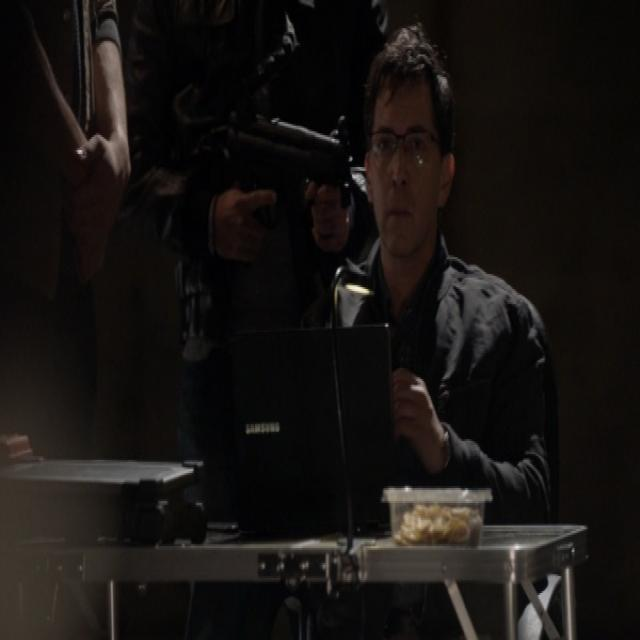rifle: (218, 100, 364, 226)
